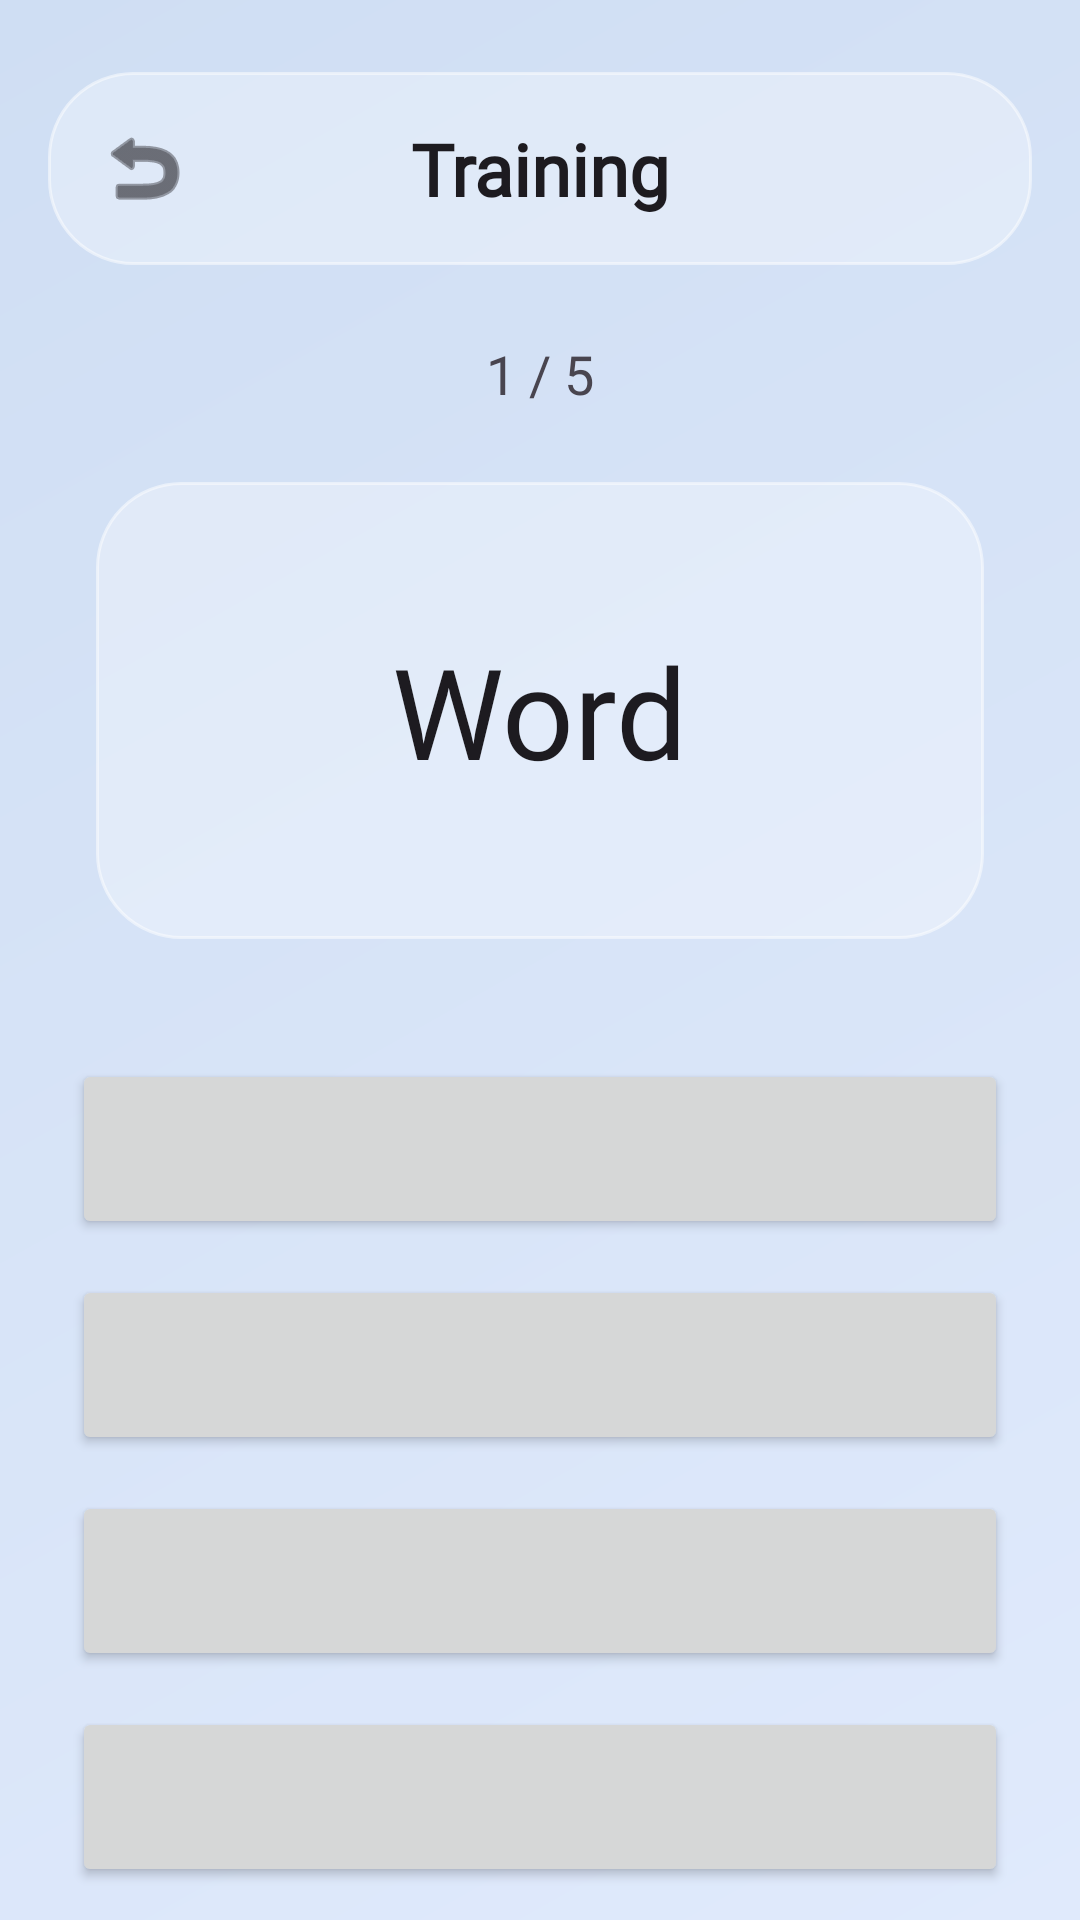

Screen size 1080 × 1920. Icon name, then its box in pixels as bbox(x1, y1, x2, y2):
revert: bbox(111, 137, 180, 200)
